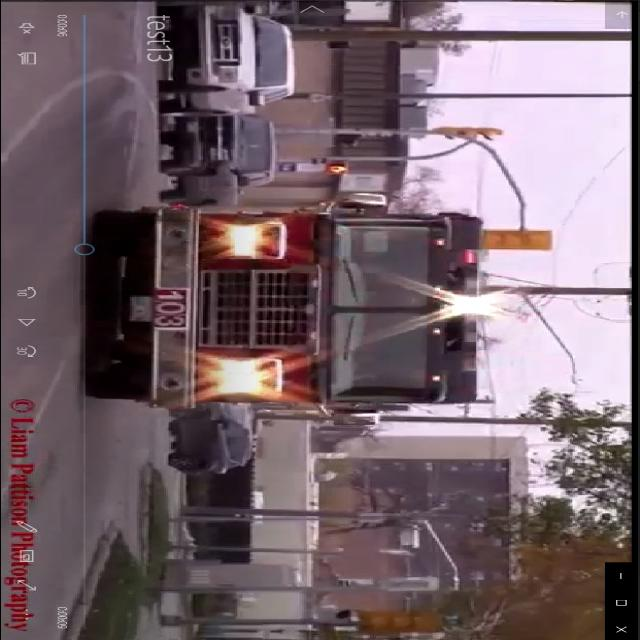emergency: (74, 188, 490, 432)
